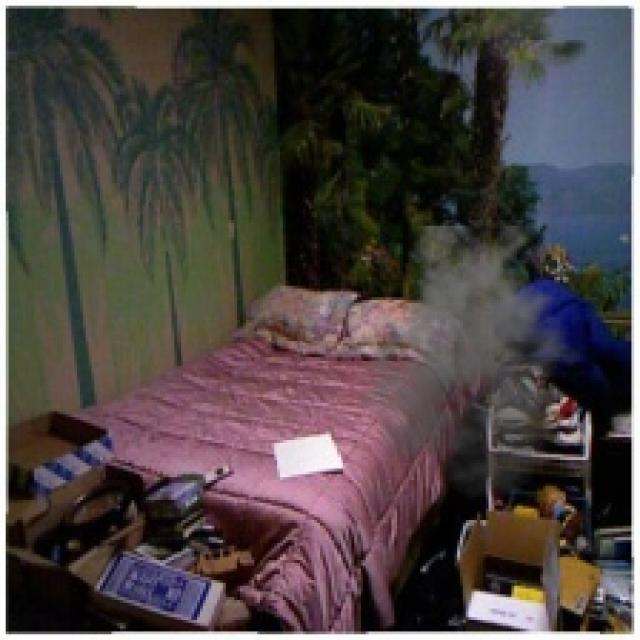Smoke: (357, 225, 594, 500)
